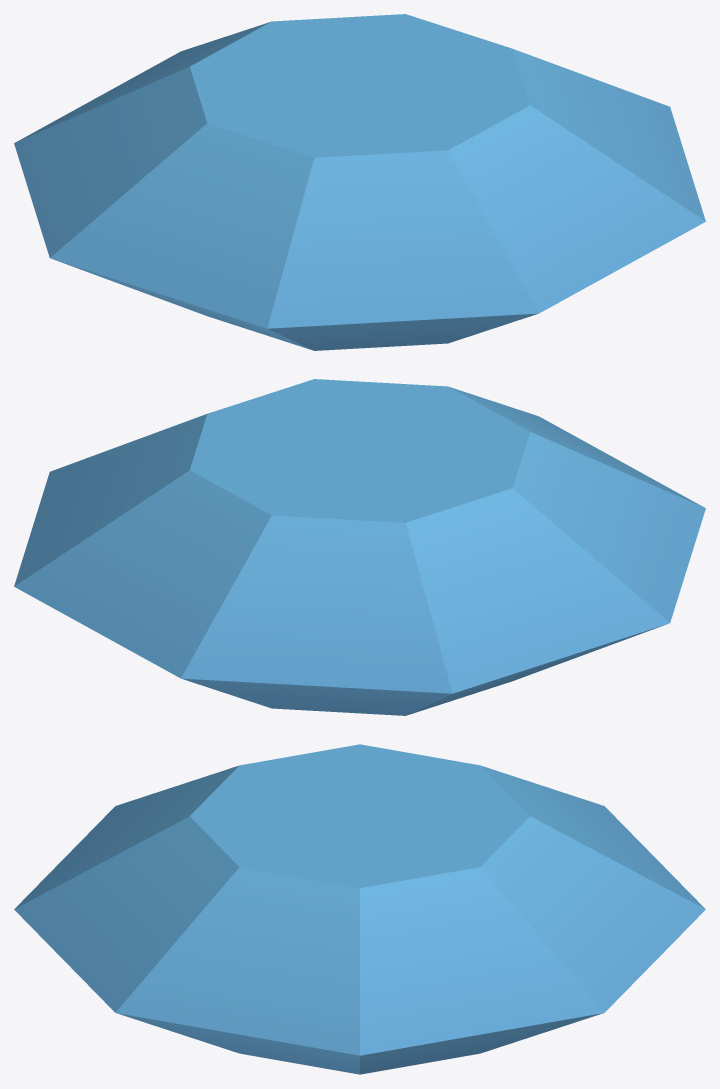
Rendered from Diamond_02.fbx.
3 views of the same model, one above another, from view 1: azimuth 30°, elevation 25°; view 2: azimuth 150°, elevation 25°; view 3: azimuth 270°, elevation 25° (orthographic). The views are drawn at different scales.
Parts seen in each view (by area): view 1: Diamond_02; view 2: Diamond_02; view 3: Diamond_02.
Part boxes in pixels (x1,y1,x2,y2): Diamond_02: (14, 14, 705, 350); Diamond_02: (14, 379, 705, 715); Diamond_02: (14, 744, 705, 1074).
Bounding box in the file's own units: 0.1732 × 0.0515 × 0.1732.
